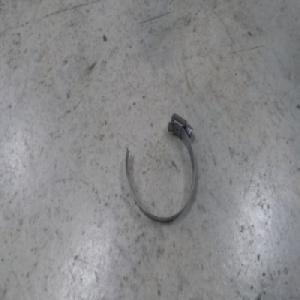AdjustableClamp: (125, 114, 196, 223)
